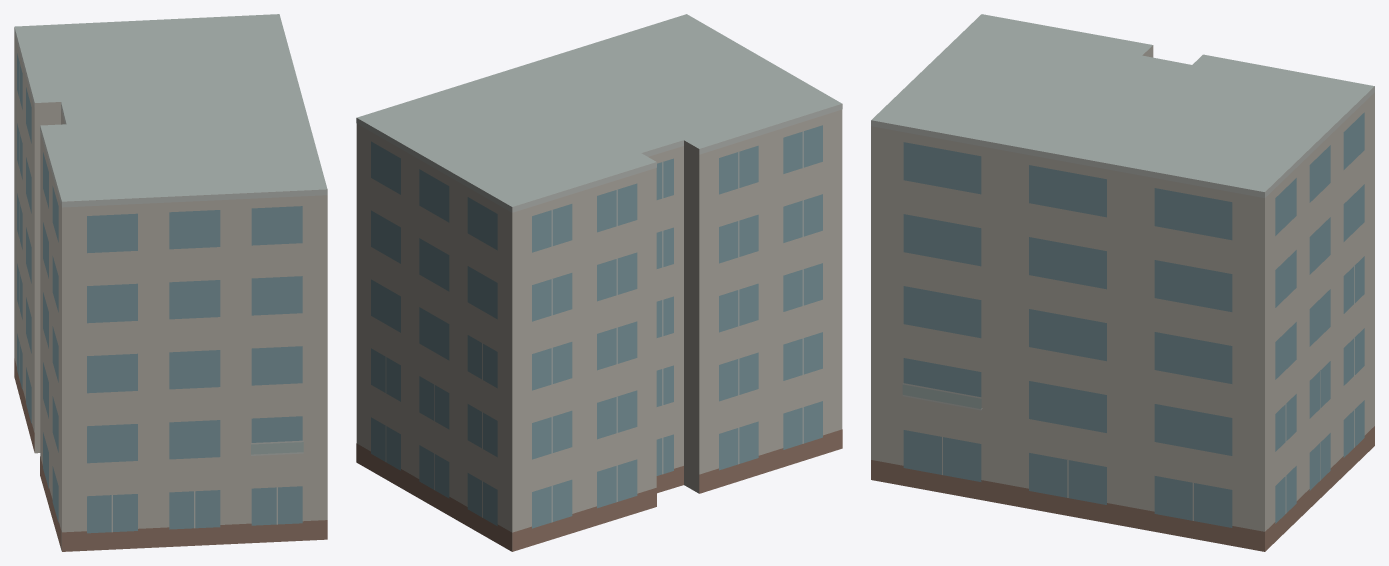
Rendered from survey-upis-32532842.glb.
3 renders of one model, left to right at view 1: azimuth 30°, elevation 25°; view 2: azimuth 150°, elevation 25°; view 3: azimuth 270°, elevation 25°, orthographic. The views are drawn at different scales.
Parts seen in each view (by area): view 1: survey-upis-32532842.tmp; view 2: survey-upis-32532842.tmp; view 3: survey-upis-32532842.tmp.
Boxes of the visible parts, x1,y1,x2,y2 form: survey-upis-32532842.tmp: [14, 14, 327, 551]; survey-upis-32532842.tmp: [356, 14, 842, 551]; survey-upis-32532842.tmp: [871, 14, 1374, 551].
Bounding box in the file's own units: 15.52 × 14.6 × 18.54.
